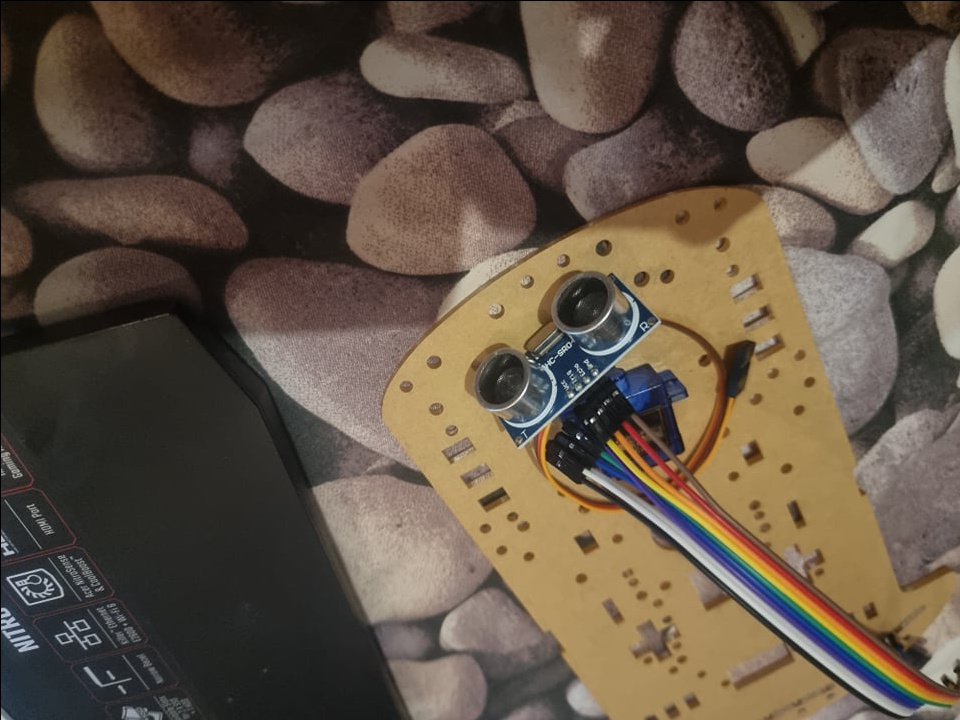SENSOR: (467, 265, 661, 440)
